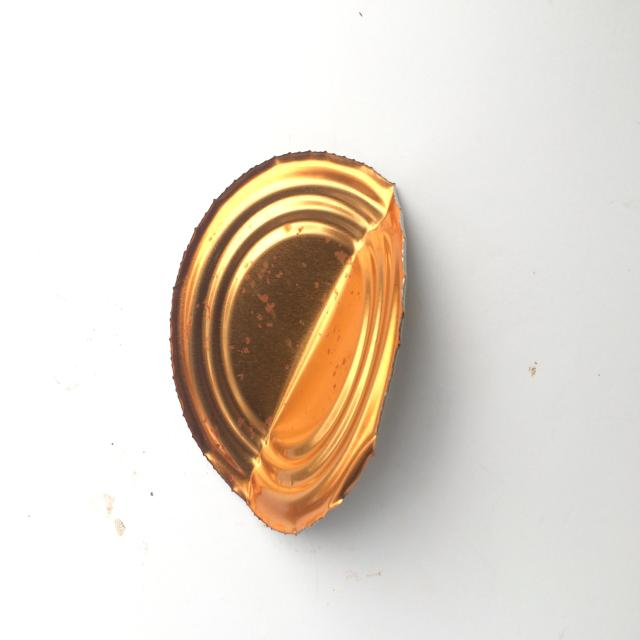metal: (169, 148, 408, 535)
